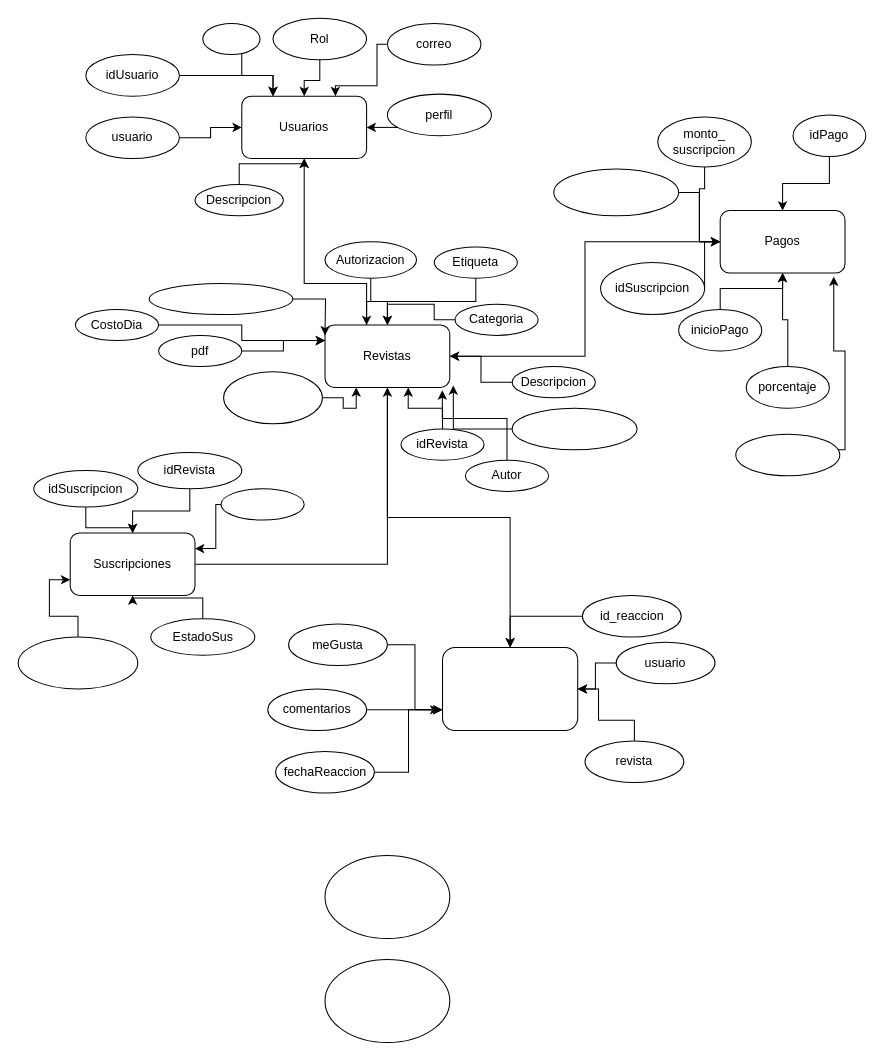
The diagram is 884 pixels wide and 1061 high, and some of its shapes have lost their labels. Each missing label, with the box of its shape:
clave: (202, 22, 260, 55)
costo_ suscripcion: (735, 433, 840, 476)
cuotaSuscripcion: (148, 282, 293, 315)
fechaCreacion: (223, 371, 322, 424)
fechaSuscripcion: (17, 636, 138, 689)
idUser: (220, 488, 304, 520)
NombreRevista: (511, 407, 637, 450)
Reacciones: (441, 646, 578, 731)
VencimientoPAgo: (553, 168, 679, 216)
